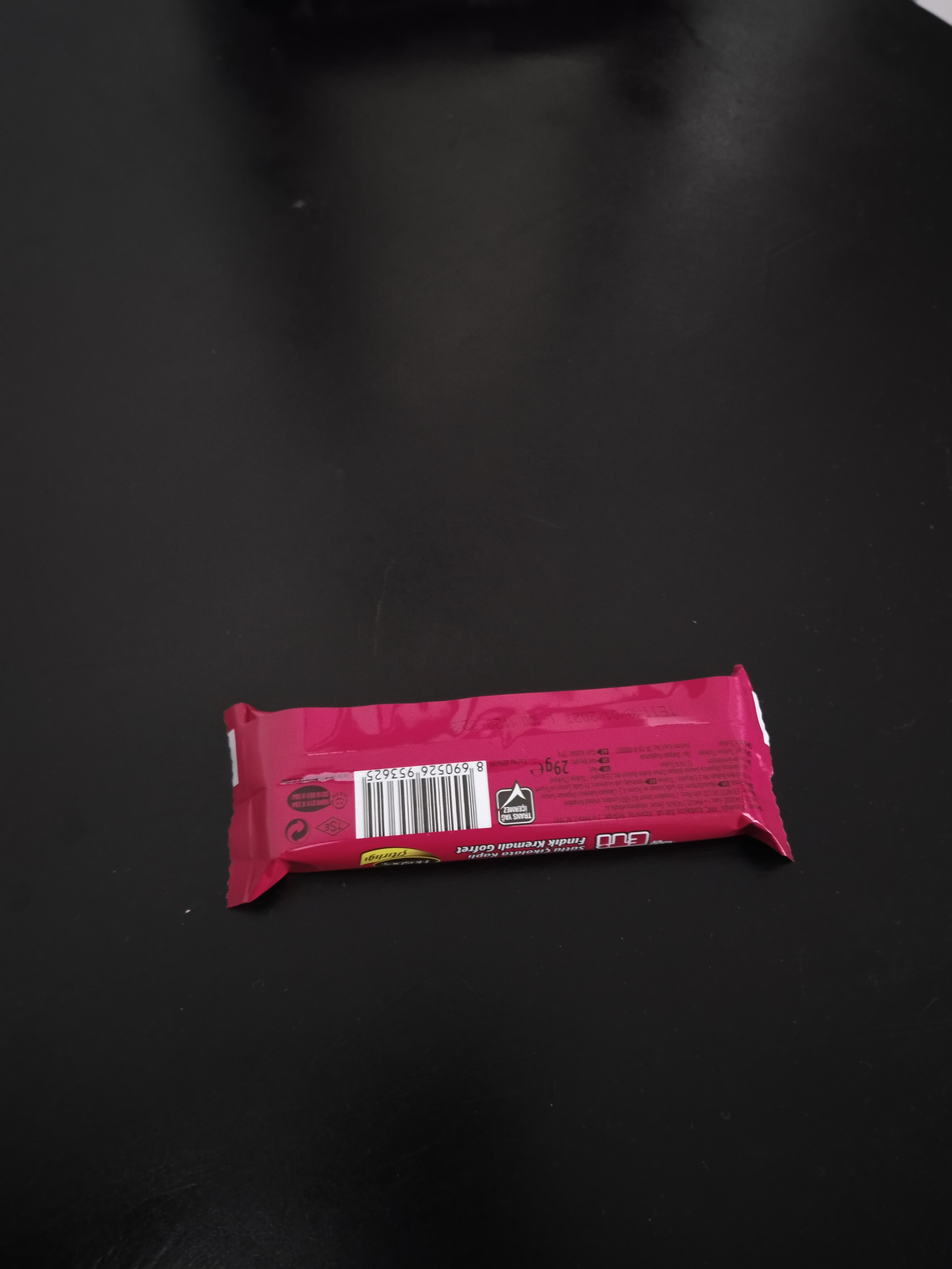eti_hosbes_gofret: (227, 670, 788, 910)
